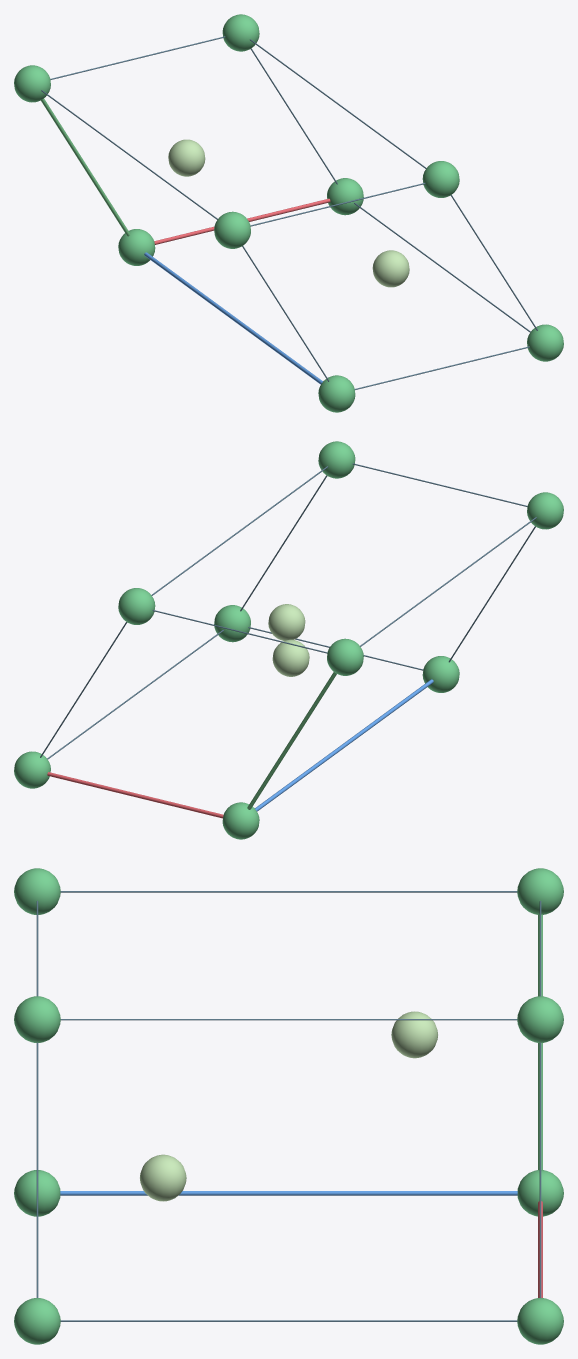
Rendered from chat-magnesium-iodide.glb.
The picture shows the model from 3 angles, top to bottom: view 1: azimuth 30°, elevation 25°; view 2: azimuth 150°, elevation 25°; view 3: azimuth 270°, elevation 25°; orthographic projection. The views are drawn at different scales.
Visible parts, largest first — view 1: Mg · Mg · 1 (×8), Ô mạng và các trục a, b, c, I · I · 1 (×2); view 2: Mg · Mg · 1 (×8), Ô mạng và các trục a, b, c, I · I · 1 (×2); view 3: Mg · Mg · 1 (×8), Ô mạng và các trục a, b, c, I · I · 1 (×2).
Boxes of the visible parts, left/top/right/bottom form: Mg · Mg · 1 (×8): left=14, top=14, right=563, bottom=412; Ô mạng và các trục a, b, c: left=41, top=36, right=537, bottom=389; I · I · 1 (×2): left=168, top=139, right=409, bottom=287; Mg · Mg · 1 (×8): left=14, top=441, right=563, bottom=839; Ô mạng và các trục a, b, c: left=40, top=463, right=536, bottom=818; I · I · 1 (×2): left=268, top=604, right=309, bottom=676; Mg · Mg · 1 (×8): left=14, top=868, right=563, bottom=1344; Ô mạng và các trục a, b, c: left=36, top=891, right=542, bottom=1321; I · I · 1 (×2): left=140, top=1011, right=437, bottom=1201.
Bounding box in the file's own units: 6.85 × 4.23 × 7.52.
